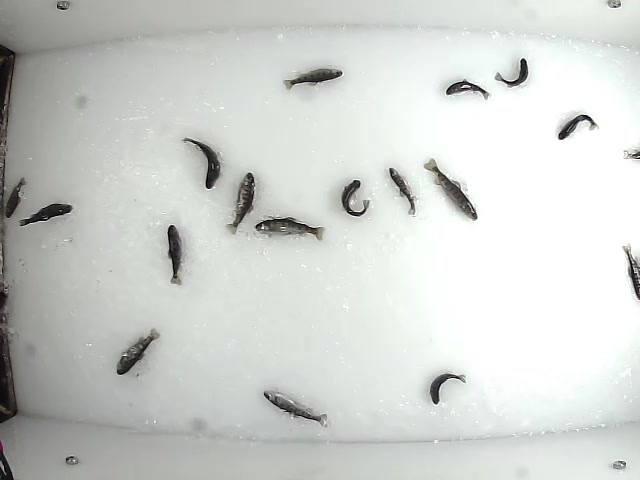fish: (420, 153, 478, 222), (261, 389, 328, 428), (113, 326, 164, 377), (221, 168, 256, 237), (181, 137, 222, 190), (253, 215, 326, 243), (281, 66, 344, 92), (387, 165, 418, 217), (16, 201, 73, 229), (338, 178, 372, 219), (427, 372, 466, 407), (555, 112, 600, 141), (164, 224, 184, 287), (2, 175, 28, 220), (444, 79, 490, 103), (494, 56, 528, 88)
